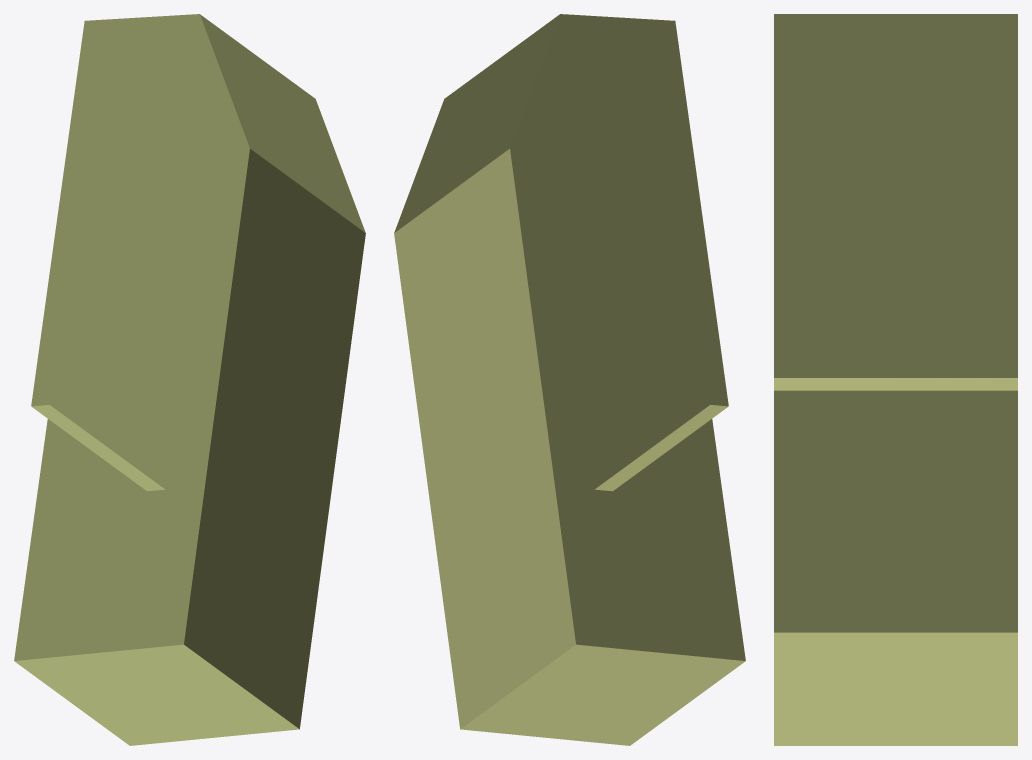
3 renders of one model, left to right at view 1: azimuth 30°, elevation 25°; view 2: azimuth 150°, elevation 25°; view 3: azimuth 270°, elevation 25°, orthographic. The views are drawn at different scales.
Parts seen in each view (by area): view 1: 0_2_1_3_0_3_2_3_0; view 2: 0_2_1_3_0_3_2_3_0; view 3: 0_2_1_3_0_3_2_3_0.
Part boxes in pixels (bbox=[...]): 0_2_1_3_0_3_2_3_0: bbox=[14, 14, 365, 745]; 0_2_1_3_0_3_2_3_0: bbox=[394, 14, 745, 745]; 0_2_1_3_0_3_2_3_0: bbox=[774, 14, 1017, 745].
Bounding box in the file's own units: 7.05 × 18.5 × 6.
